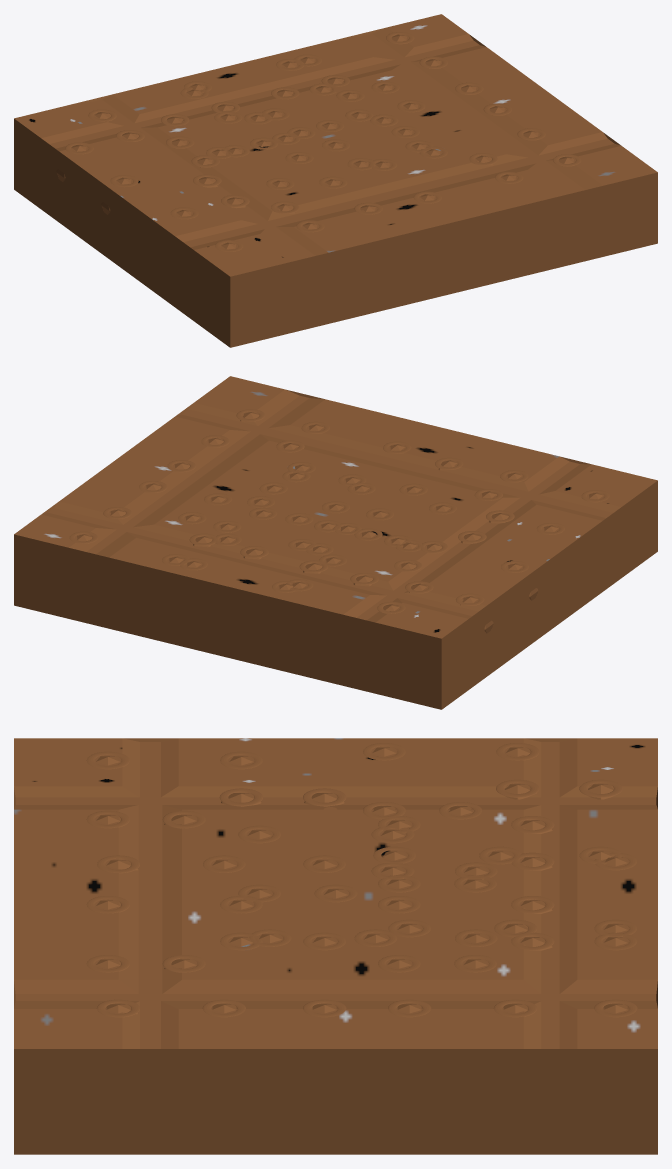
File: Stage1 Potatos.fbx
3 renders of one model, top to bottom at view 1: azimuth 30°, elevation 25°; view 2: azimuth 150°, elevation 25°; view 3: azimuth 270°, elevation 25°, orthographic. The views are drawn at different scales.
Parts seen in each view (by area): view 1: Cube, Icosphere; view 2: Cube, Icosphere; view 3: Cube, Icosphere.
Boxes of the visible parts, x1,y1,x2,y2 form: Cube: (14, 14, 657, 347); Icosphere: (56, 32, 581, 251); Cube: (14, 376, 657, 709); Icosphere: (69, 409, 609, 633); Cube: (14, 738, 657, 1154); Icosphere: (86, 743, 637, 1017).
Size of the model in its own units: 390 by 111 by 341.
